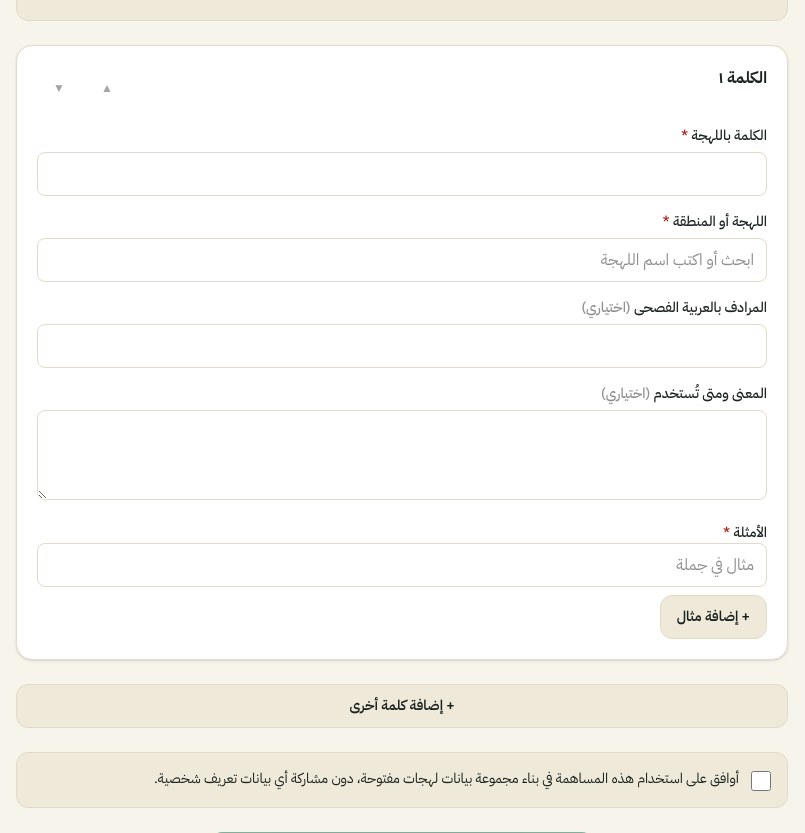
ContributionForm › adds another word card when the add-word button is clicked
This screenshot has width=805, height=833.
(page scrolled)
Click the button "+ إضافة كلمة أخرى". click: [402, 706]
box: [16, 684, 788, 728]
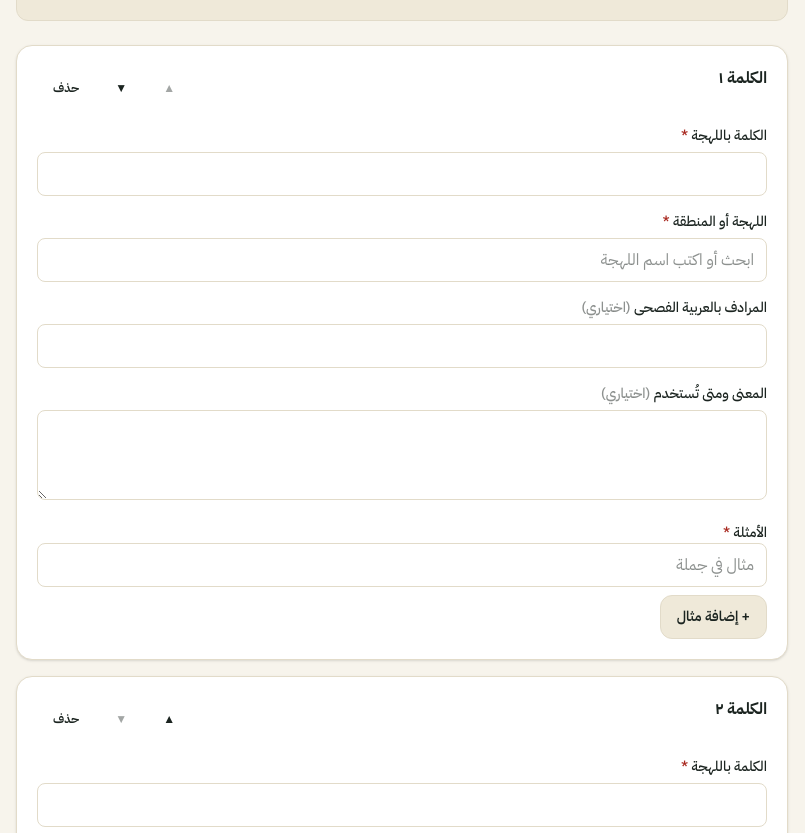
Expected: the heading "الكلمة ٢" is shown, [715, 697, 767, 721]
